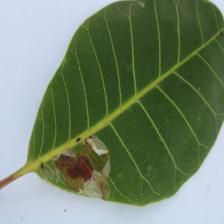leaf miner: (38, 125, 115, 201)
